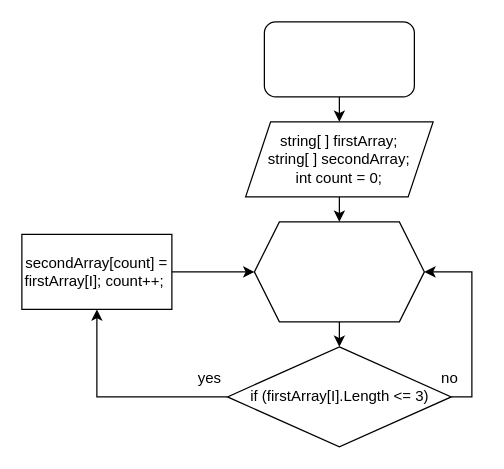
The diagram is 504 pixels wide and 469 high, and some of its shapes have lost their labels. The shapes that lost their labels are listed below. From the top down, each one's centre as x and y in pixels, then its label:
At (338,59): "void FillSecondArray".
At (338,271): "for (int i = 0; i < firstArray.Length; i++)".
